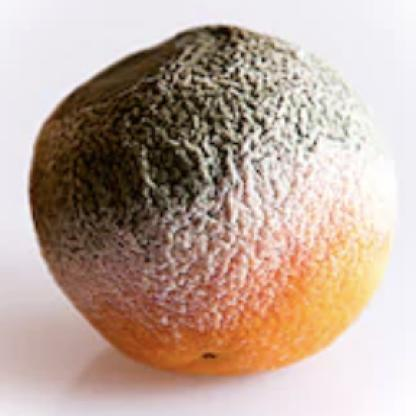rotten: (31, 25, 394, 381)
